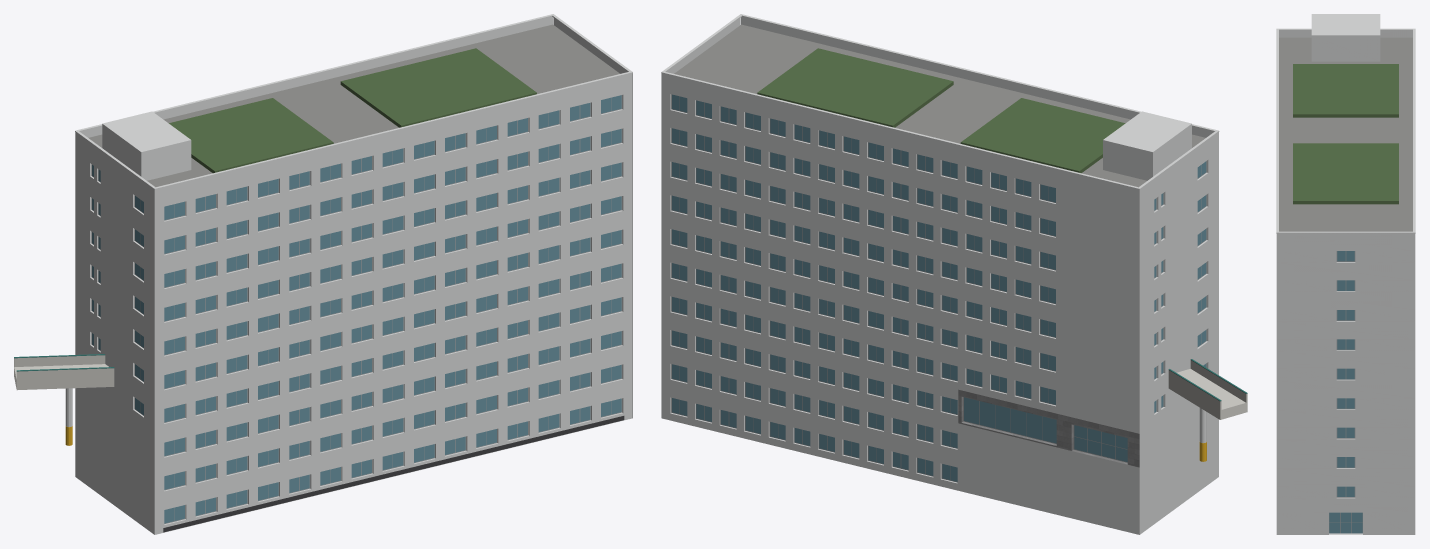
The picture shows the model from 3 angles, left to right: view 1: azimuth 30°, elevation 25°; view 2: azimuth 150°, elevation 25°; view 3: azimuth 270°, elevation 25°; orthographic projection. The views are drawn at different scales.
Parts seen in each view (by area): view 1: eng4__white, eng4__glass, eng4__garden, eng4__roof, eng4__frame, eng4__bridge, eng4__dark; view 2: eng4__white, eng4__glass, eng4__garden, eng4__roof, eng4__frame, eng4__stone, eng4__bridge; view 3: eng4__white, eng4__roof, eng4__garden, eng4__glass, eng4__frame.
Boxes of the visible parts, bbox=[...] form: eng4__white: bbox=[65, 14, 632, 534]; eng4__glass: bbox=[92, 95, 621, 523]; eng4__garden: bbox=[169, 48, 536, 173]; eng4__roof: bbox=[89, 24, 619, 187]; eng4__frame: bbox=[91, 95, 622, 523]; eng4__bridge: bbox=[14, 355, 114, 390]; eng4__dark: bbox=[163, 416, 624, 532]; eng4__white: bbox=[661, 14, 1219, 534]; eng4__glass: bbox=[672, 94, 1206, 481]; eng4__garden: bbox=[757, 48, 1125, 173]; eng4__roof: bbox=[674, 24, 1205, 187]; eng4__frame: bbox=[671, 94, 1206, 482]; eng4__stone: bbox=[958, 389, 1139, 467]; eng4__bridge: bbox=[1168, 360, 1247, 419]; eng4__white: bbox=[1276, 14, 1415, 534]; eng4__roof: bbox=[1279, 37, 1412, 231]; eng4__garden: bbox=[1293, 64, 1398, 204]; eng4__glass: bbox=[1329, 251, 1362, 533]; eng4__frame: bbox=[1329, 251, 1362, 533].
Bounding box in the file's own units: 66.26 × 41.3 × 16.28.
Materials: 10 (1 with a texture image).
